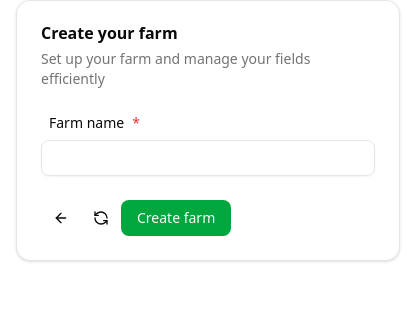
Test: CreateFarmForm Tests › Name invalid characters error
Type "Farm@#123" into the field labelled "Farm name *". click: (208, 158)
box: [41,140,375,176]
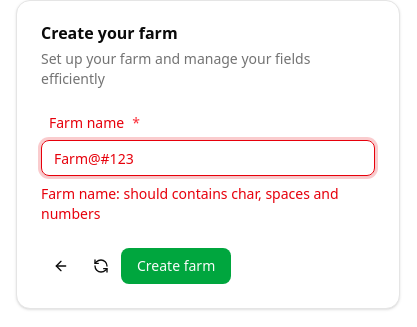
expect the text "Farm name: should contains char, spaces and numbers" is shown: met, box [41,184,375,224]
